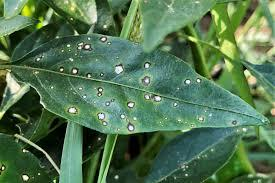leaf_spot: (19, 28, 267, 152)
